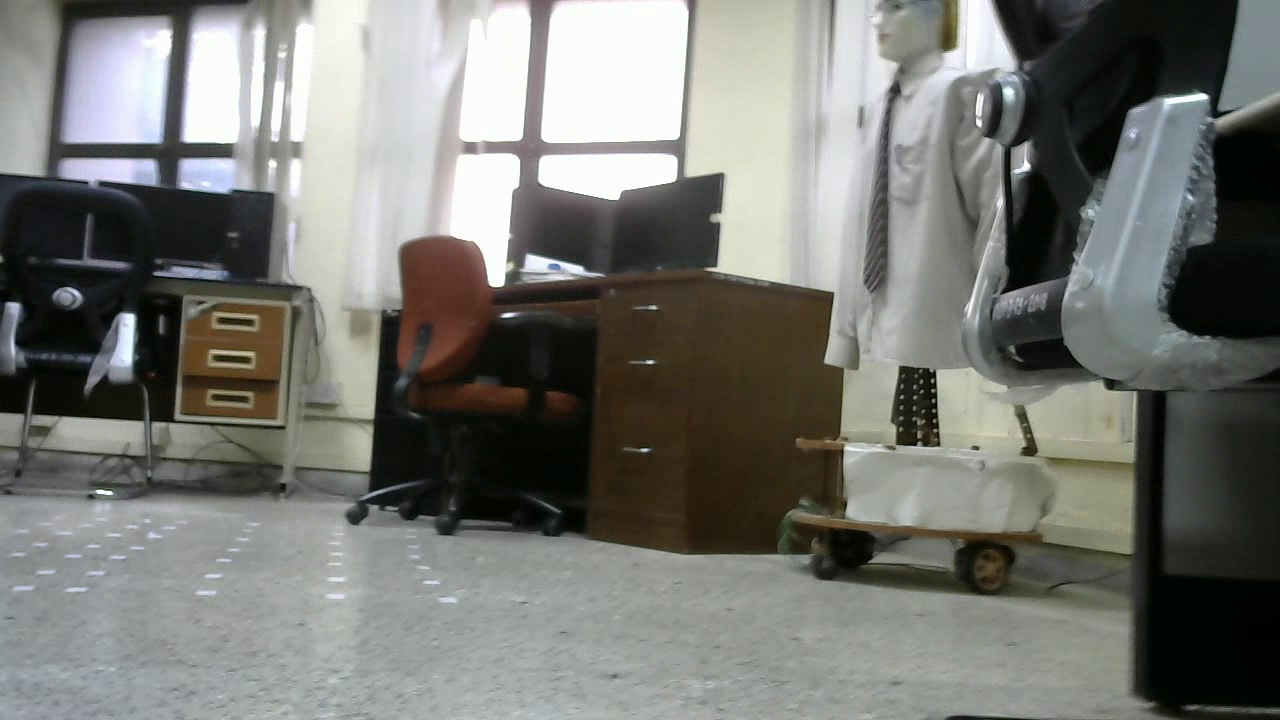chair: (343, 234, 590, 540), (2, 182, 166, 498)
